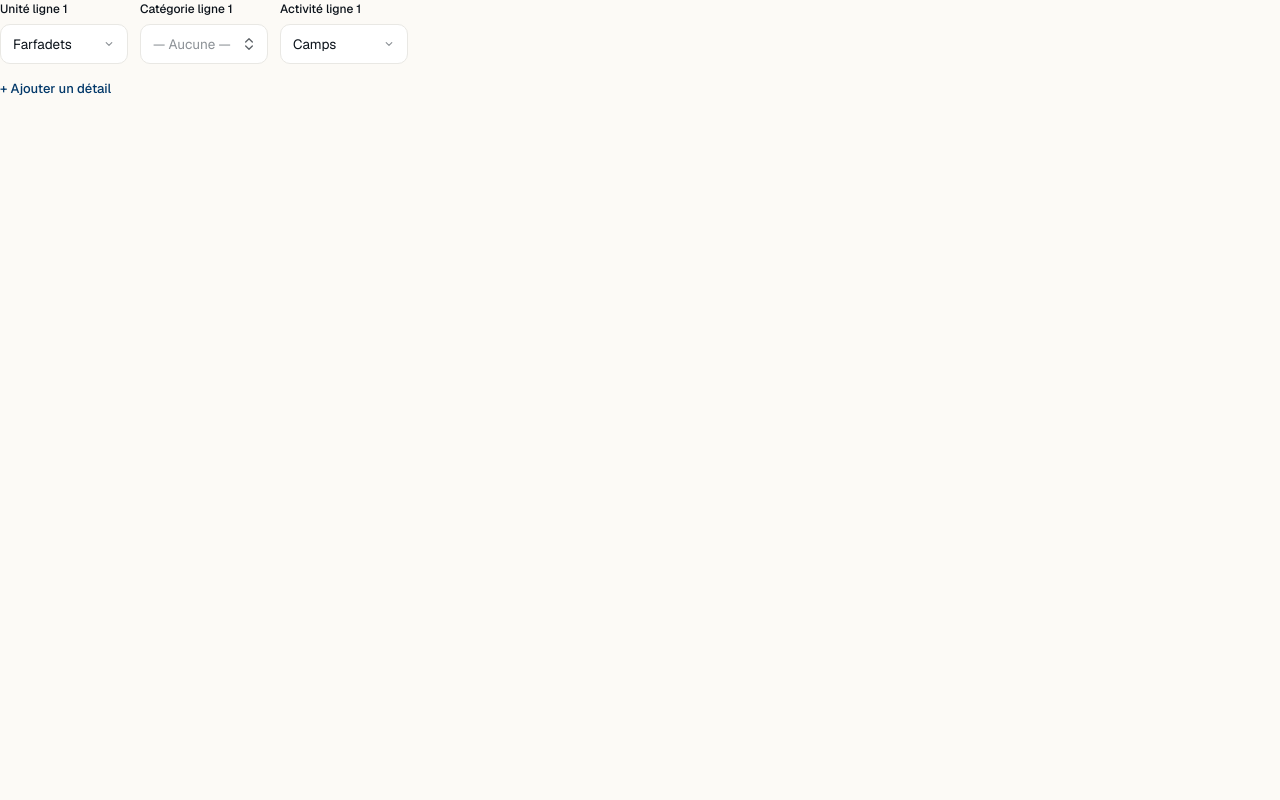
it: ImputationGrid › raccourci orange : favoris réels (topCategoryIds) + filtre sens dans le picker catégorie
Click the dropdown named "Catégorie" at (204, 44), box left=140, top=24, right=268, bottom=64
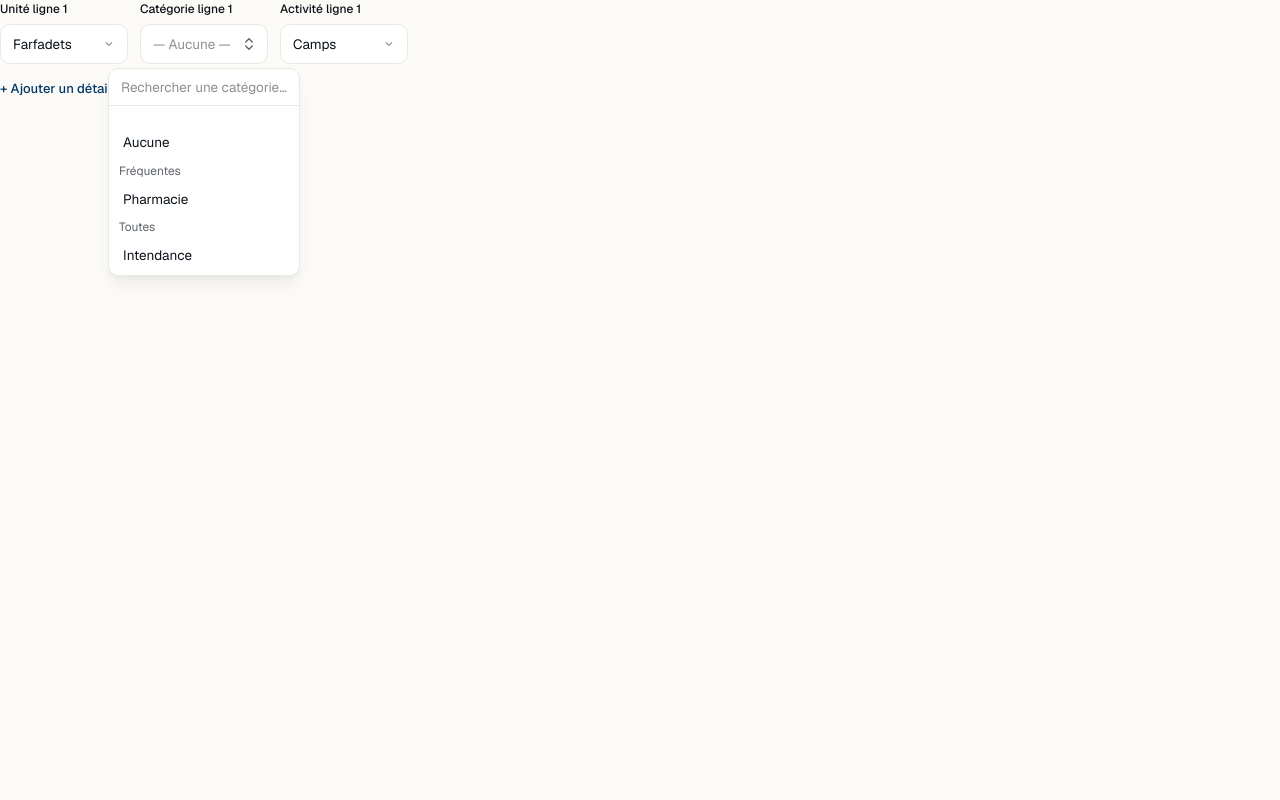
Result: the text "Fréquentes" is shown at left=119, top=162, right=181, bottom=178
Result: the option "Pharmacie" is shown at left=123, top=190, right=188, bottom=208
